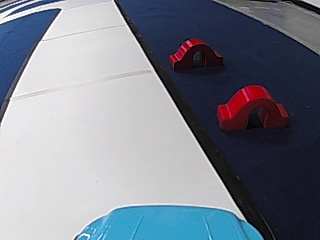bridge: (208, 82, 292, 131), (166, 34, 224, 70)
